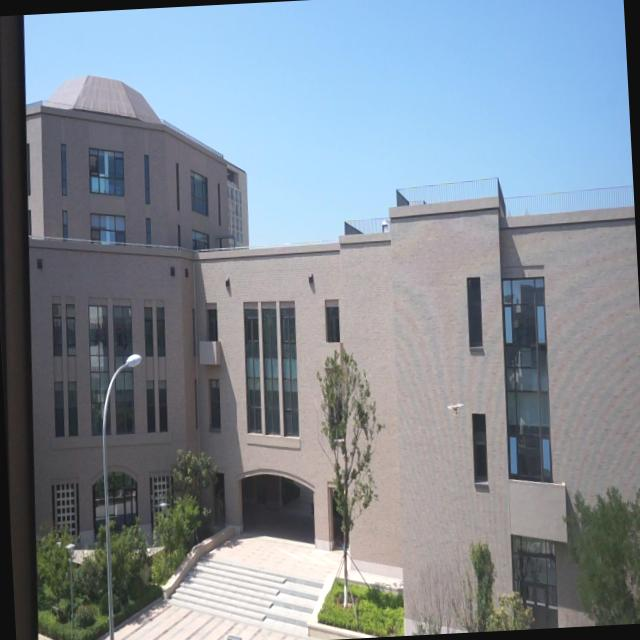drone: (444, 397, 466, 419)
